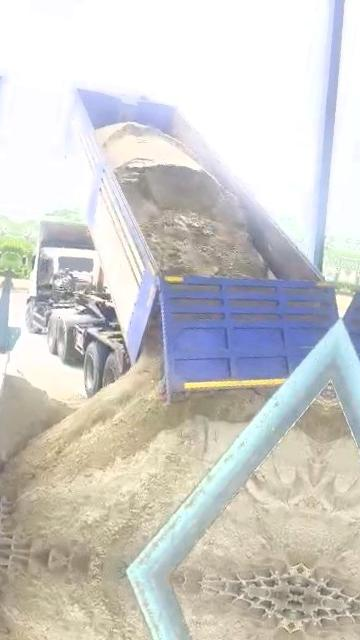sand: (0, 338, 266, 568), (174, 378, 331, 579), (97, 123, 267, 278), (0, 374, 71, 461), (51, 390, 85, 410)
